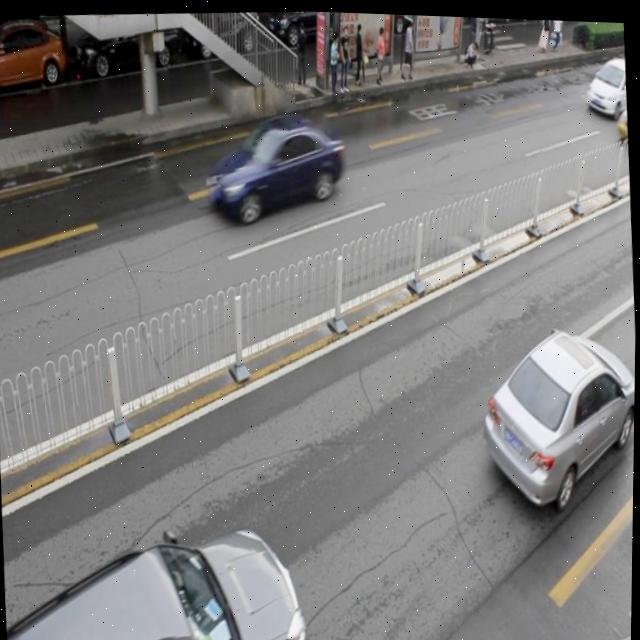car: (4, 516, 312, 640), (477, 314, 637, 507), (206, 110, 349, 224), (71, 10, 177, 79), (0, 16, 66, 94), (182, 8, 259, 56), (262, 8, 339, 50), (581, 51, 628, 115), (613, 85, 630, 148)
